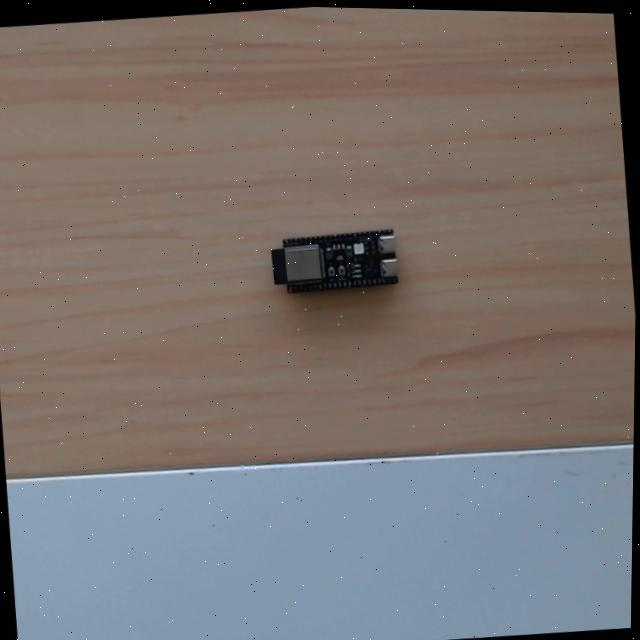ESP32S3-Devkit: (267, 223, 401, 297)
